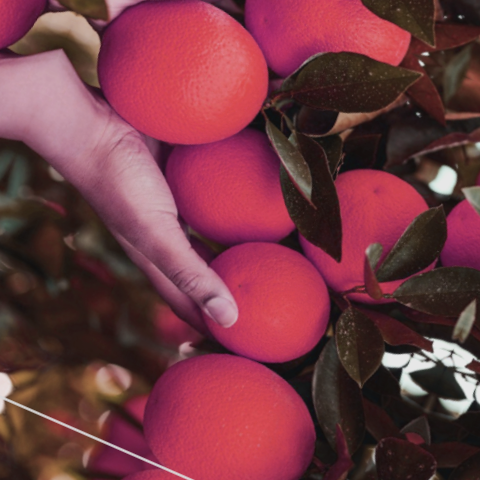orange: (74, 0, 302, 184), (124, 307, 358, 480), (173, 214, 369, 396)
